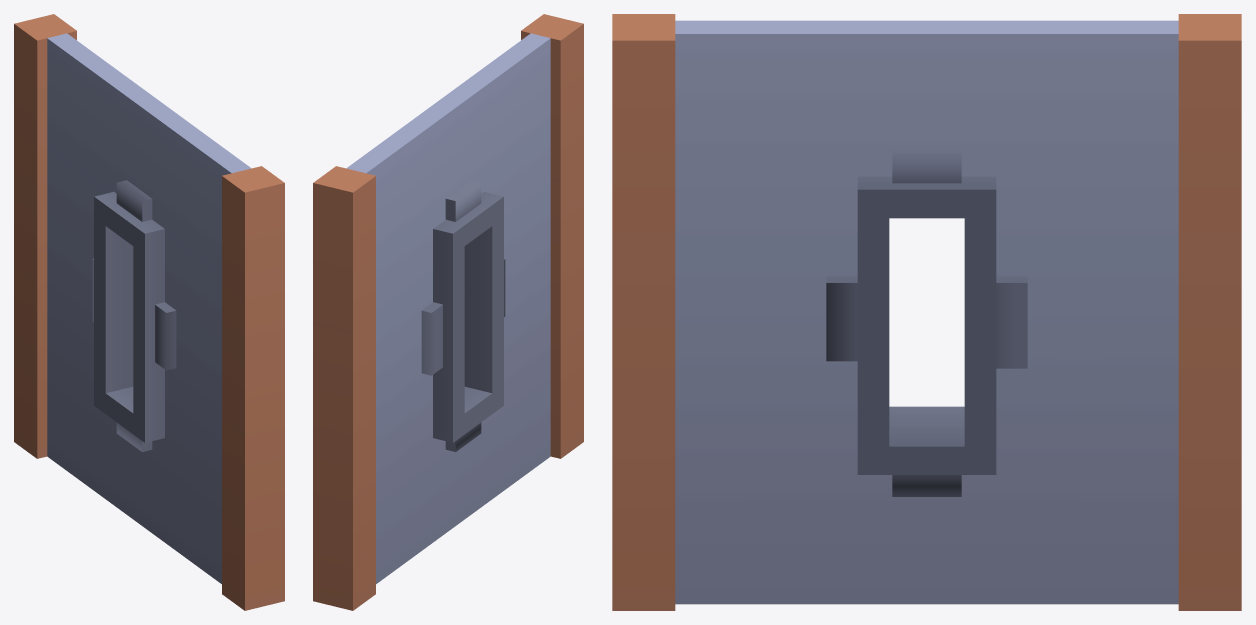
File: wall-window-stone.glb
The picture shows the model from 3 angles, left to right: view 1: azimuth 30°, elevation 25°; view 2: azimuth 150°, elevation 25°; view 3: azimuth 270°, elevation 25°; orthographic projection. The views are drawn at different scales.
Parts seen in each view (by area): view 1: wall-window-stone; view 2: wall-window-stone; view 3: wall-window-stone.
Boxes of the visible parts, x1,y1,x2,y2 form: wall-window-stone: (14, 14, 284, 610); wall-window-stone: (313, 14, 583, 610); wall-window-stone: (612, 14, 1241, 610).
Bounding box in the file's own units: 0.15 × 1 × 1.
Materials: 1 (1 with a texture image).
